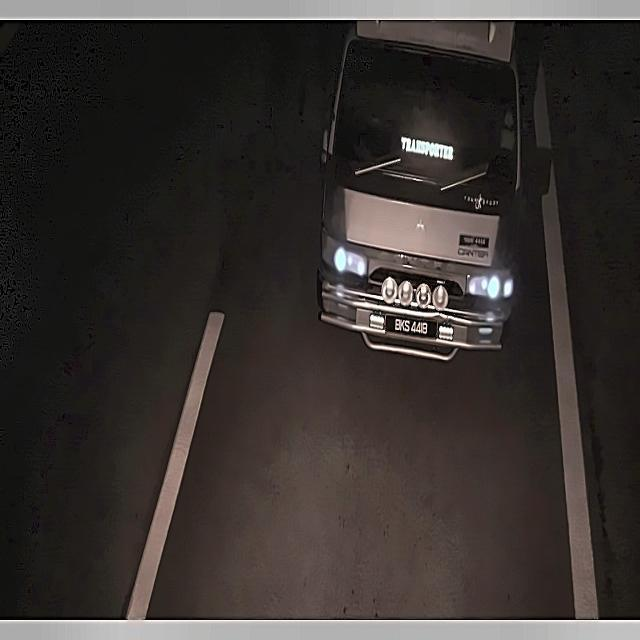car: (382, 307, 449, 348)
